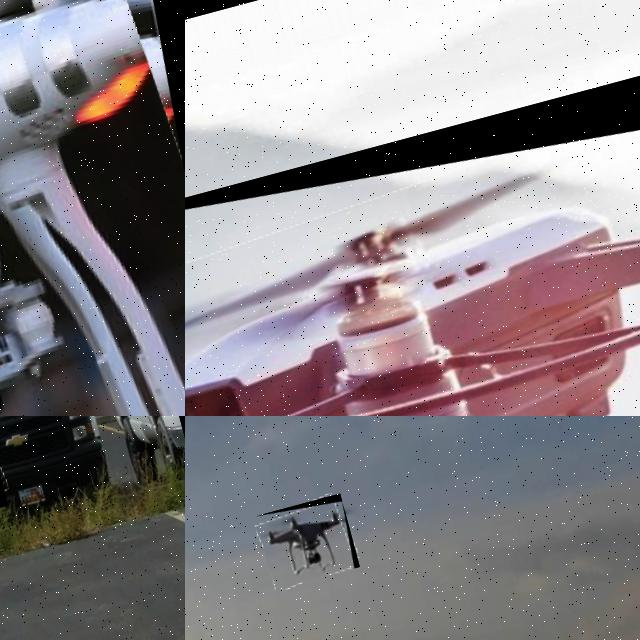0: (0, 0, 185, 416), (254, 493, 360, 589)
drone: (185, 65, 640, 416)
